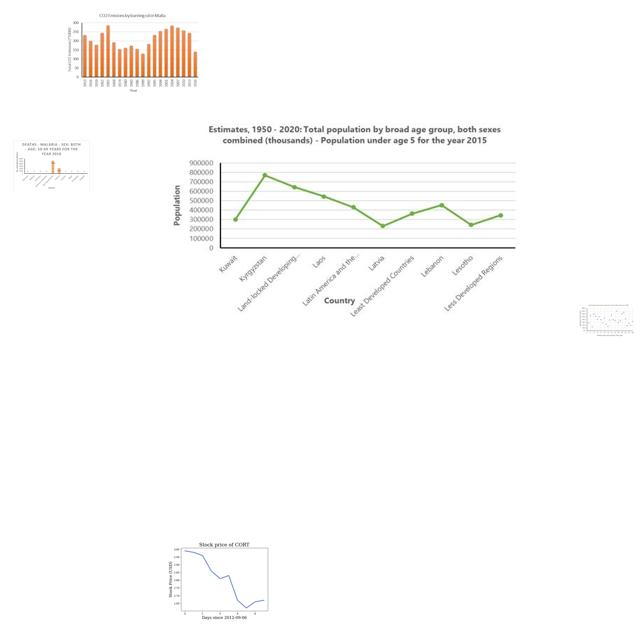Graph: (167, 123, 525, 320), (64, 11, 200, 95), (167, 537, 279, 621), (13, 140, 90, 192), (579, 304, 634, 337)
